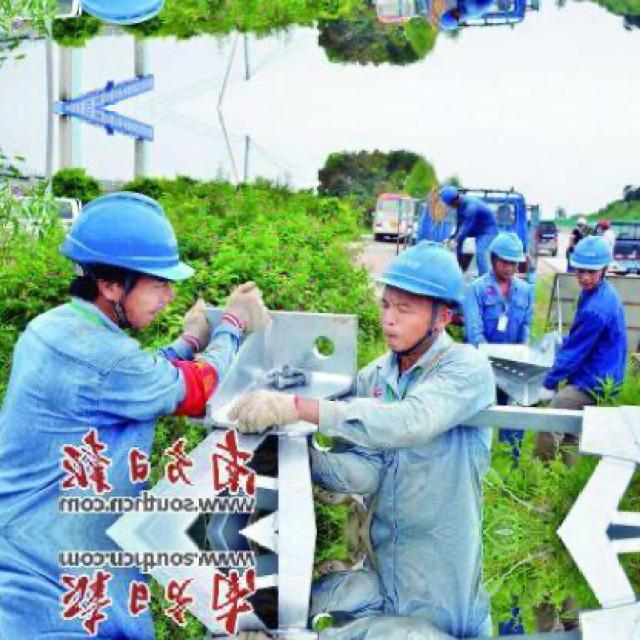con casco: (358, 242, 524, 346), (118, 172, 243, 305), (527, 230, 640, 313)
